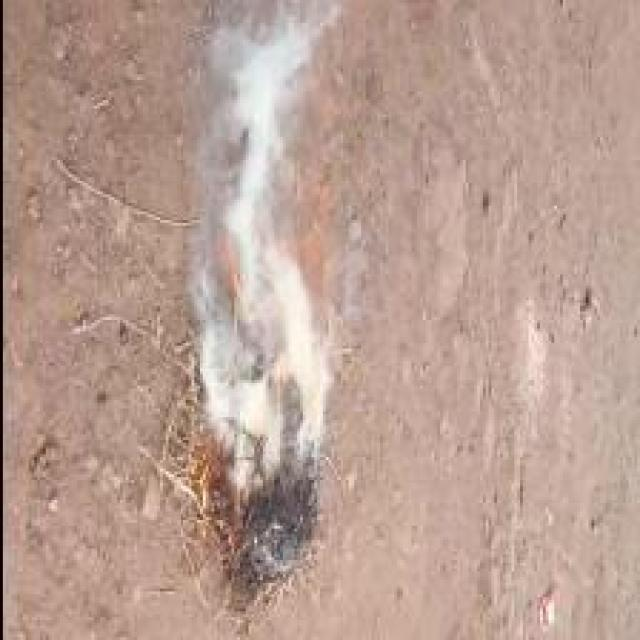Smoke: (184, 1, 340, 480)
